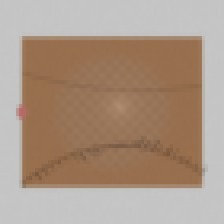corneal_ulcer: (92, 94, 155, 144)
